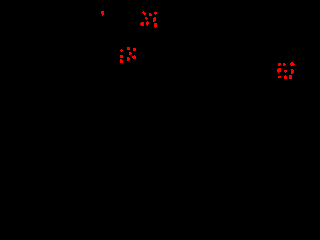Target: (290, 62, 295, 66), (277, 68, 281, 73), (142, 11, 146, 15), (140, 22, 144, 26), (132, 55, 136, 59), (101, 11, 104, 16), (153, 17, 156, 22), (146, 21, 149, 26), (154, 23, 157, 28), (291, 69, 294, 74), (127, 57, 130, 61), (120, 59, 123, 63), (284, 75, 287, 79), (289, 75, 292, 79), (154, 12, 157, 15), (149, 13, 152, 16), (145, 17, 148, 20), (127, 47, 130, 50), (133, 48, 136, 51), (120, 49, 123, 52), (129, 52, 132, 55), (120, 55, 123, 58), (278, 63, 281, 66), (283, 63, 286, 66), (284, 70, 287, 73), (278, 76, 281, 78)
